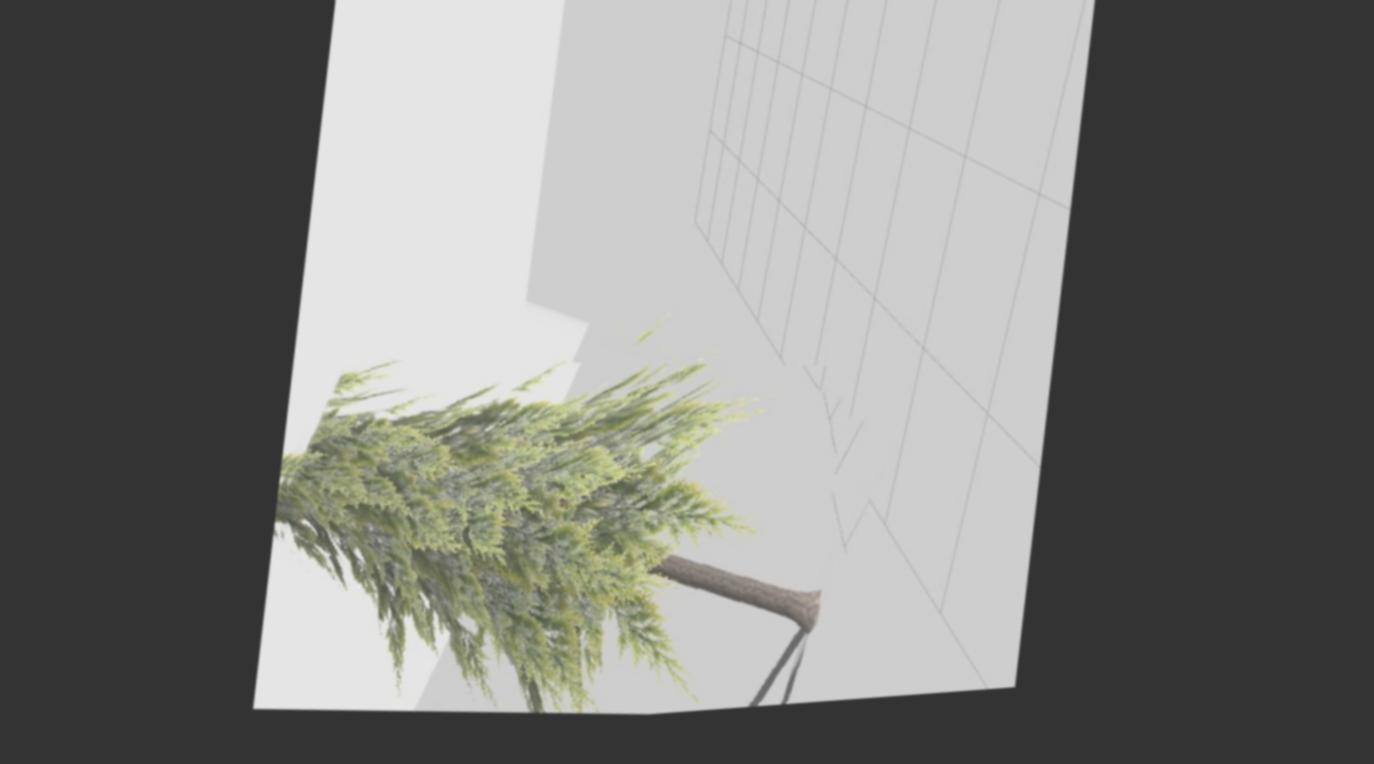tree_gazebo: (281, 375, 824, 723)
